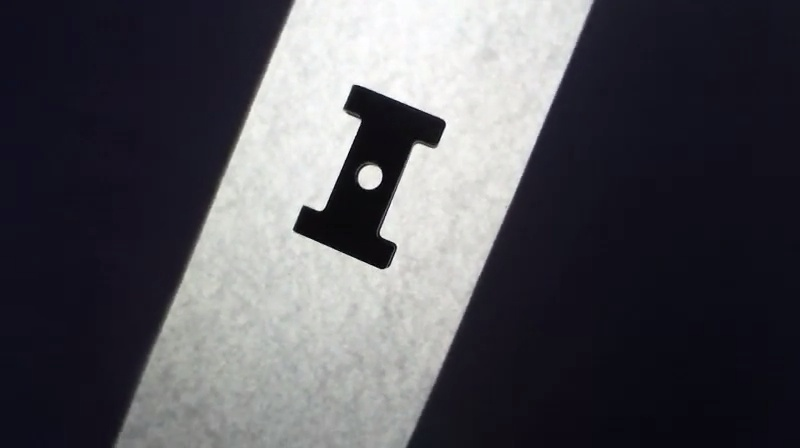O002: (289, 79, 449, 271)
